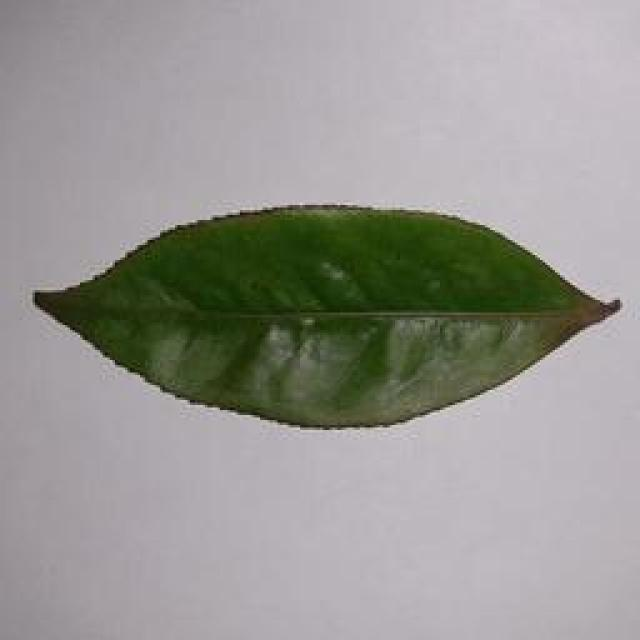Red Leaf Spot: (27, 193, 640, 442)
